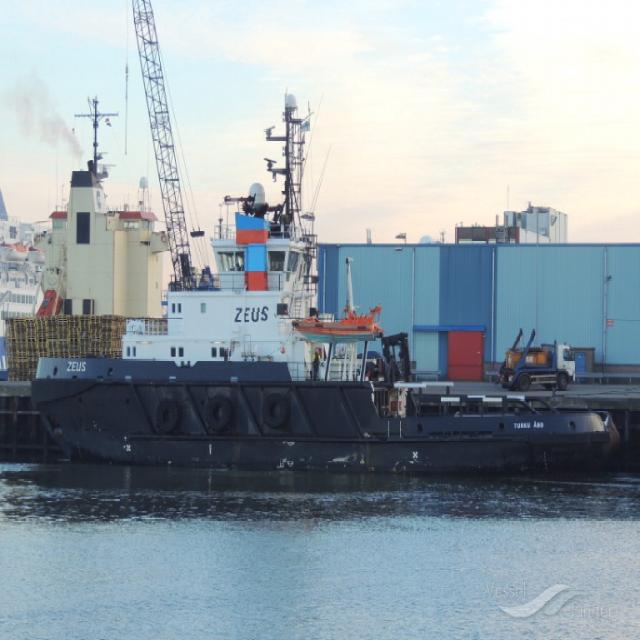OCR: (229, 301, 276, 327)
